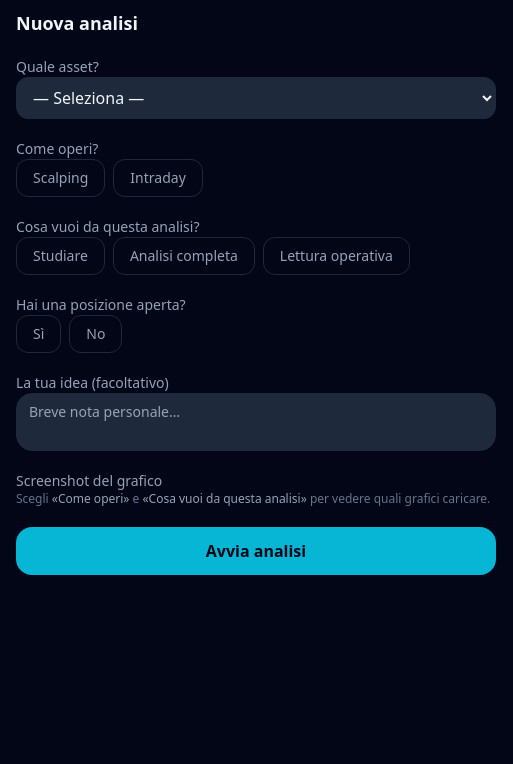
Test: NewAnalysisForm › mostra i campi posizione quando Lettura operativa è selezionata
Click the button "Lettura operativa" at {"x": 336, "y": 256}, box [263,237,410,275]
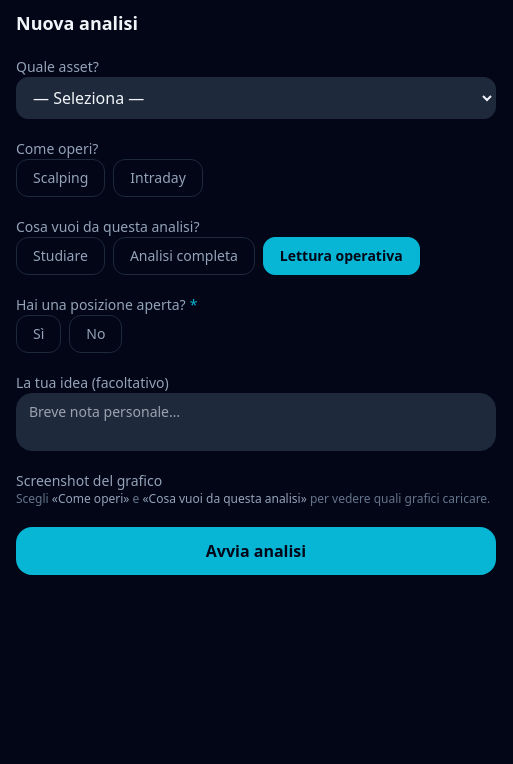
Click the button "Sì" at {"x": 39, "y": 334}, box [16,315,61,353]
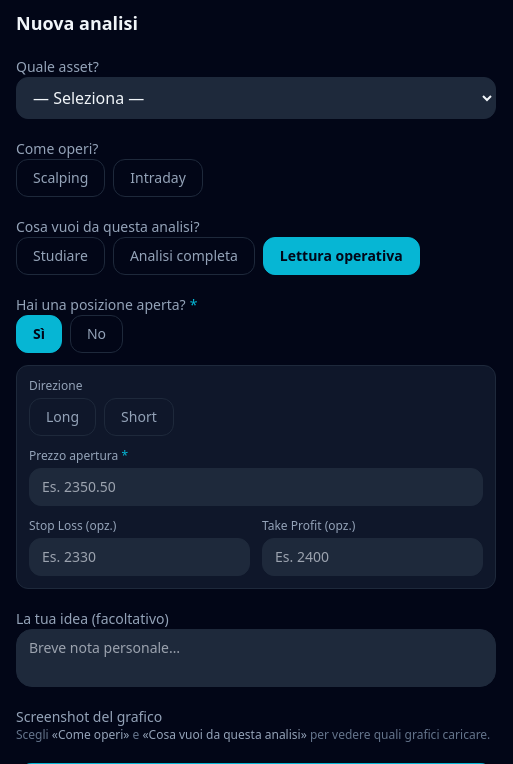
Expected: the text "Prezzo apertura *" is shown, [29,447,128,464]
Expected: the text "Stop Loss (opz.)" is shown, [29,517,116,534]
